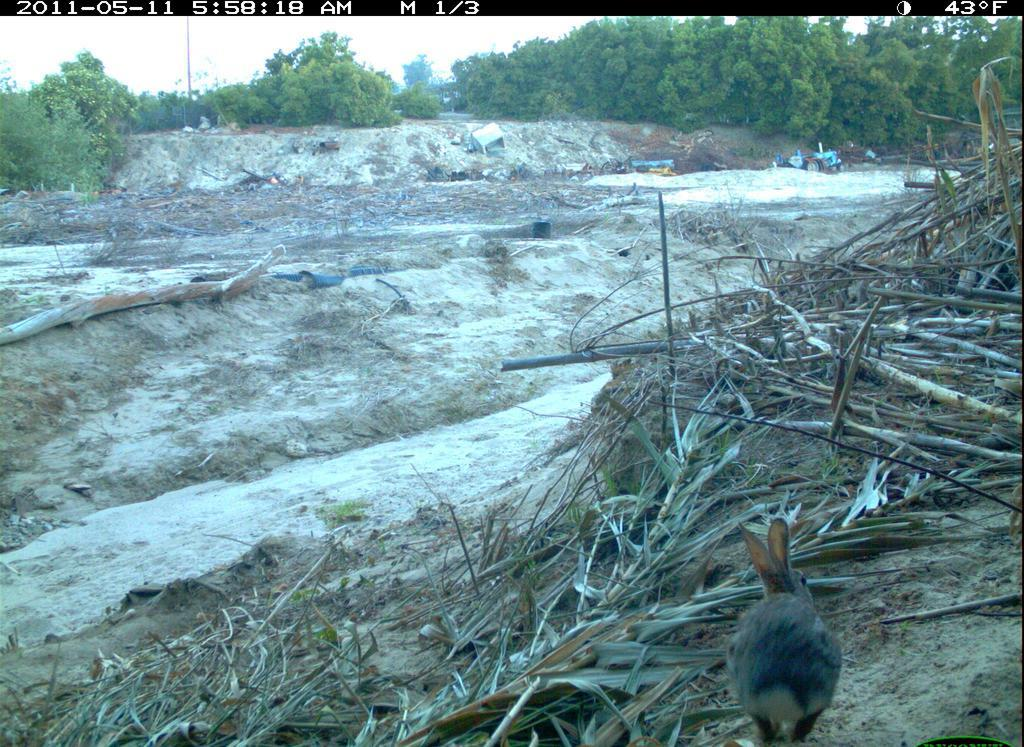rabbit: (728, 507, 849, 747)
